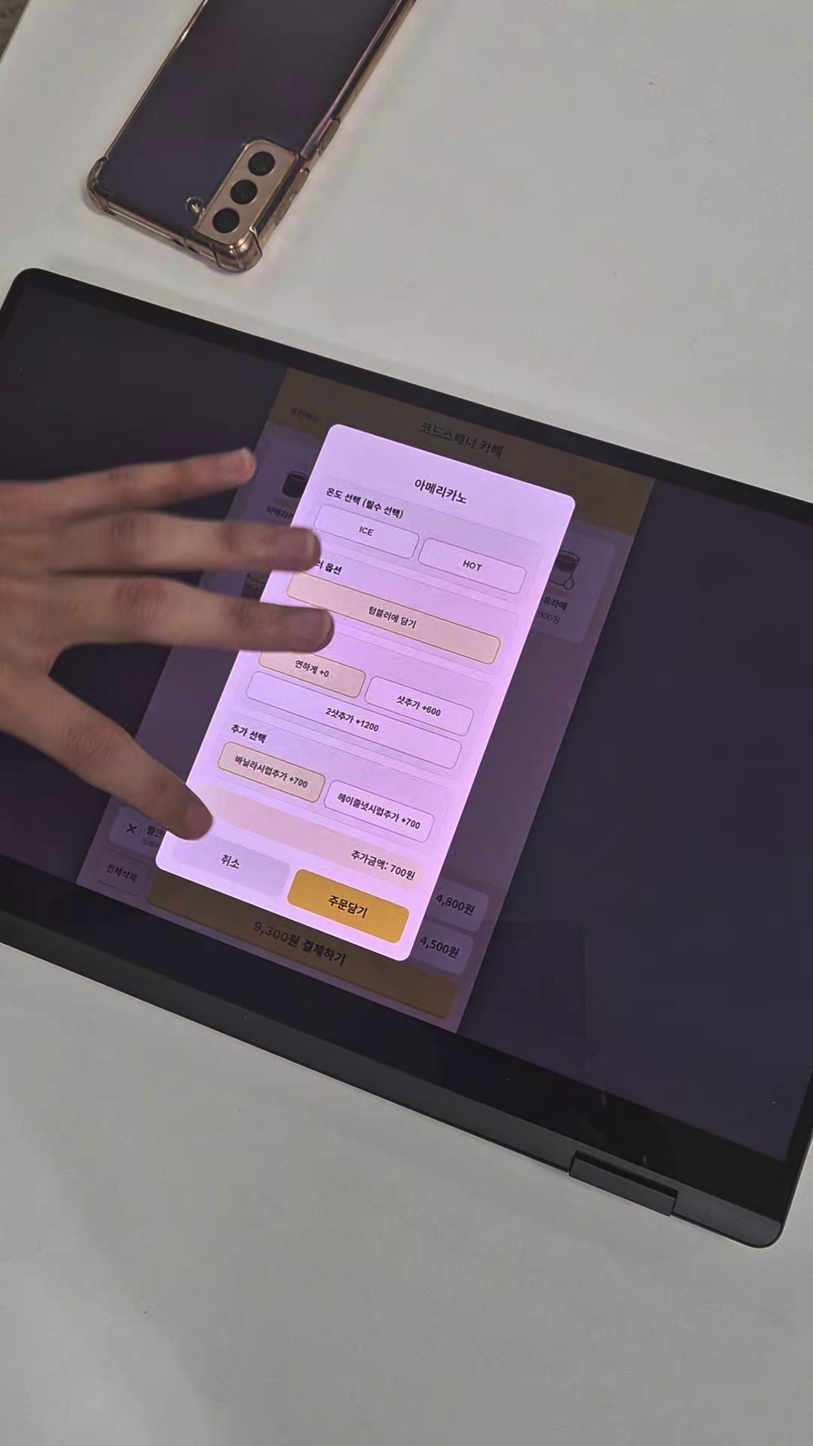action_button: (286, 869, 410, 948), (171, 825, 295, 901)
menu_name: (404, 466, 476, 514)
option_button: (246, 670, 463, 774), (288, 567, 502, 668), (253, 634, 370, 707), (363, 671, 477, 741), (323, 776, 437, 846), (216, 737, 329, 807), (416, 531, 529, 599), (309, 499, 423, 566)
